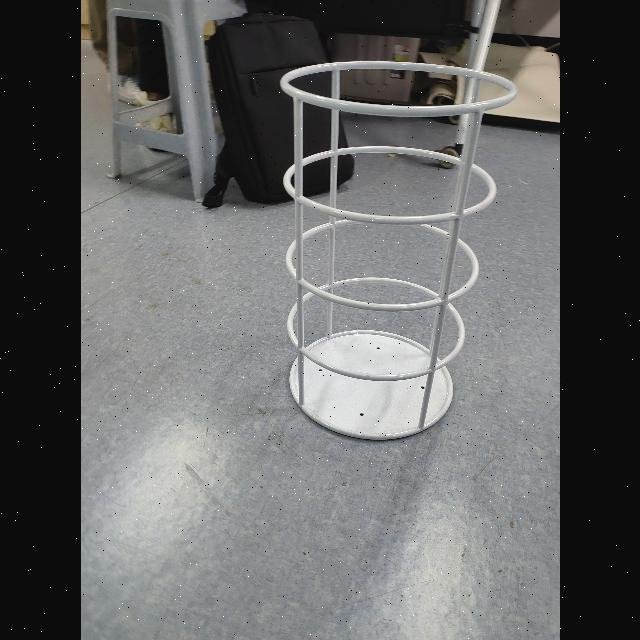S: (273, 54, 519, 443)
